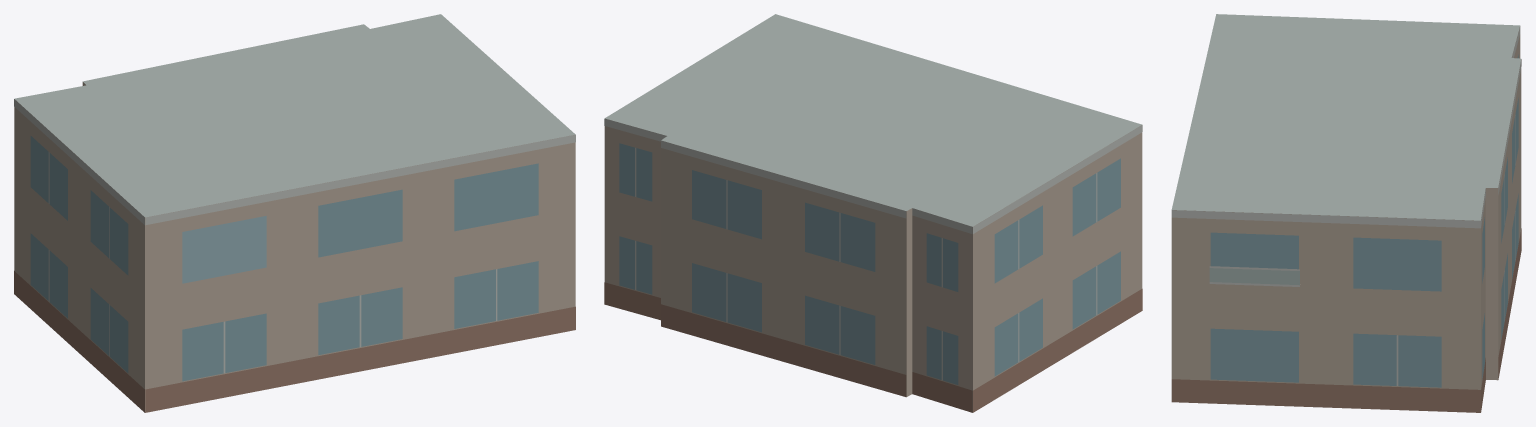
File: survey-upis-32663438.glb
The picture shows the model from 3 angles, left to right: view 1: azimuth 30°, elevation 25°; view 2: azimuth 150°, elevation 25°; view 3: azimuth 270°, elevation 25°; orthographic projection. The views are drawn at different scales.
Parts seen in each view (by area): view 1: survey-upis-32663438.tmp; view 2: survey-upis-32663438.tmp; view 3: survey-upis-32663438.tmp.
Part boxes in pixels (x1=…): survey-upis-32663438.tmp: x1=14, y1=14, x2=575, y2=412; survey-upis-32663438.tmp: x1=604, y1=14, x2=1142, y2=412; survey-upis-32663438.tmp: x1=1171, y1=14, x2=1521, y2=412.
Size of the model in its own units: 14.08 by 6.1 by 10.07.
